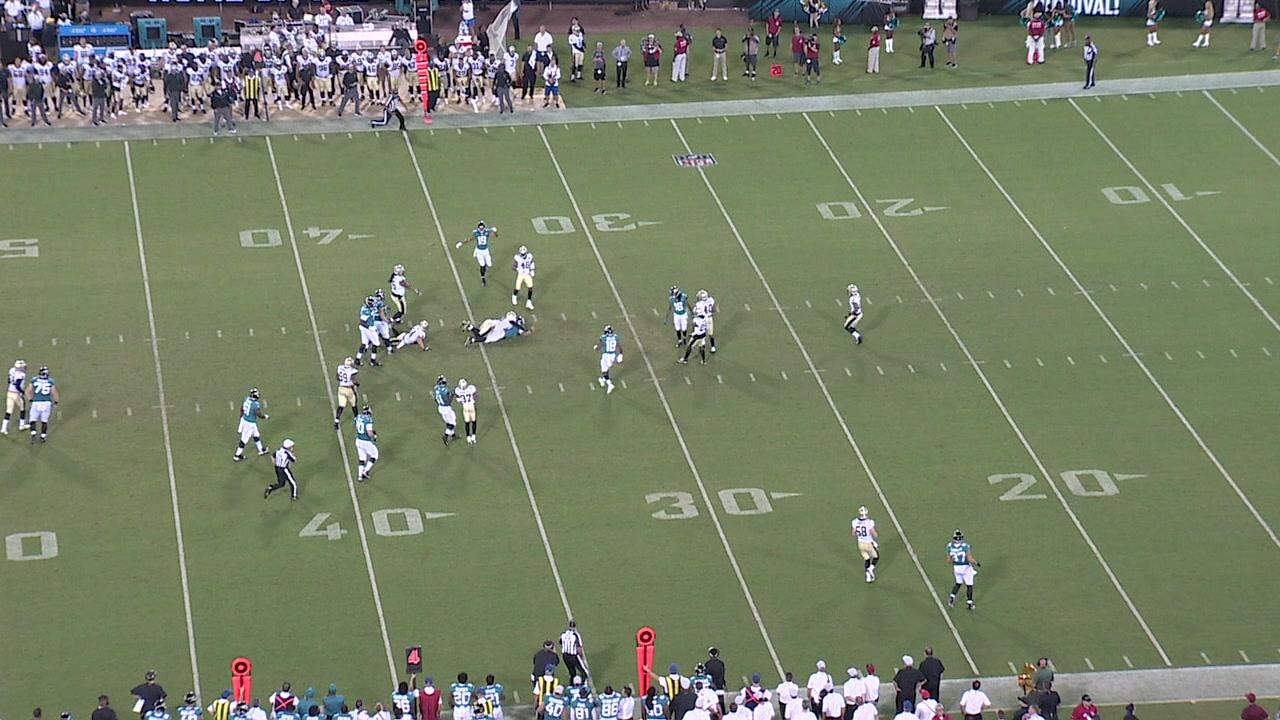five_hash: (1120, 349, 1146, 360), (960, 358, 987, 367), (1230, 279, 1254, 289), (1070, 290, 1096, 299), (303, 329, 334, 336), (800, 367, 827, 375), (151, 403, 178, 411), (142, 337, 168, 345), (767, 304, 791, 312), (484, 384, 511, 391), (644, 376, 667, 384), (921, 298, 944, 305)
hash: (121, 405, 136, 421), (522, 381, 536, 398), (190, 401, 205, 416), (1259, 345, 1274, 360), (745, 371, 761, 385), (293, 394, 306, 411), (1032, 355, 1047, 369), (1225, 347, 1240, 361), (52, 408, 65, 424), (1136, 279, 1152, 292), (88, 408, 102, 422), (713, 372, 727, 386), (935, 361, 949, 375), (1001, 357, 1015, 371), (1064, 354, 1078, 368), (1162, 349, 1176, 363), (392, 389, 405, 404), (1097, 351, 1110, 366), (681, 374, 694, 388), (874, 364, 887, 378), (954, 290, 967, 304), (1108, 281, 1121, 295), (1195, 349, 1208, 363), (1198, 278, 1213, 290), (587, 379, 598, 395), (15, 337, 28, 350), (802, 298, 815, 311), (1262, 274, 1275, 287), (180, 329, 194, 341), (246, 325, 258, 339), (278, 323, 290, 337), (361, 391, 373, 405), (555, 380, 567, 394), (50, 334, 60, 350), (214, 327, 226, 340), (225, 399, 237, 412), (342, 322, 354, 335), (587, 309, 600, 321), (1046, 285, 1058, 298), (1170, 279, 1184, 290), (82, 335, 94, 347), (863, 295, 875, 307), (1015, 287, 1027, 299), (435, 317, 446, 330), (780, 370, 791, 383), (905, 362, 916, 375), (559, 310, 569, 323), (986, 288, 996, 301), (618, 378, 629, 389), (743, 302, 754, 313), (893, 294, 905, 304), (834, 297, 846, 307), (843, 366, 855, 376), (116, 333, 125, 345), (652, 307, 661, 317)
marker: (413, 39, 436, 119), (633, 626, 659, 696), (231, 658, 254, 707)
number: (985, 466, 1123, 507), (294, 504, 425, 543), (640, 484, 778, 521), (809, 195, 927, 224), (234, 223, 345, 251), (527, 210, 638, 238), (1097, 180, 1195, 208)
